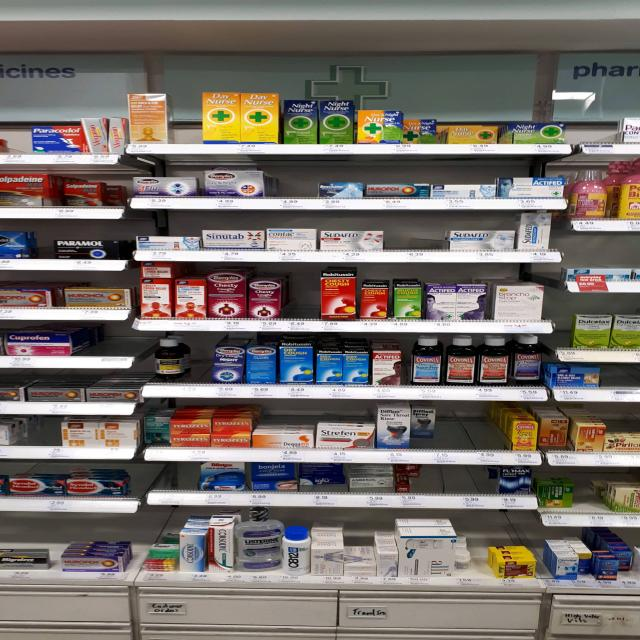void: (570, 97, 615, 154), (78, 323, 131, 368), (268, 161, 312, 210), (439, 402, 473, 464), (151, 460, 195, 506), (286, 271, 318, 331), (170, 91, 200, 154), (474, 405, 506, 464), (12, 419, 58, 459), (573, 479, 610, 526), (459, 467, 498, 508), (421, 467, 458, 508), (1, 115, 30, 165), (602, 363, 640, 400), (415, 216, 446, 261), (385, 218, 413, 262)
